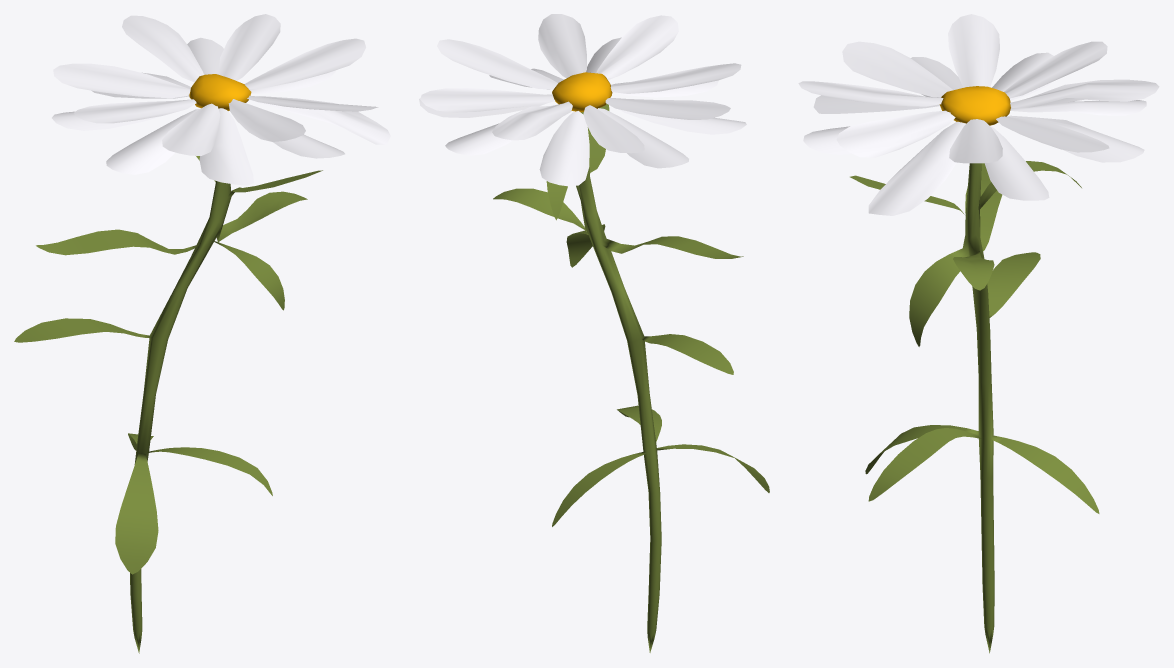
File: flower.fbx
3 views of the same model, side by side, from view 1: azimuth 30°, elevation 25°; view 2: azimuth 150°, elevation 25°; view 3: azimuth 270°, elevation 25° (orthographic). The views are drawn at different scales.
Visible parts, largest first — view 1: margarita flower; view 2: margarita flower; view 3: margarita flower.
Part boxes in pixels (x1,y1,x2,y2): margarita flower: (14, 14, 390, 653); margarita flower: (419, 14, 769, 652); margarita flower: (798, 14, 1159, 653).
Size of the model in its own units: 104 by 172 by 93.2.
